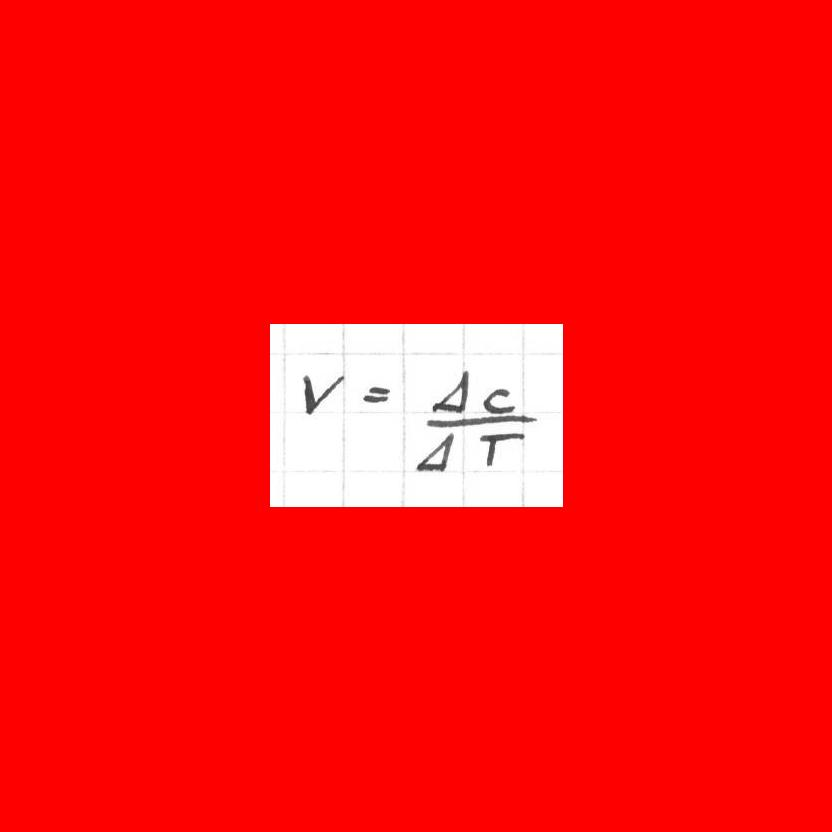Char: (299, 367, 346, 418), (429, 365, 472, 415), (411, 430, 456, 474), (420, 412, 539, 428), (477, 430, 523, 470), (480, 385, 516, 414), (360, 380, 394, 406)
